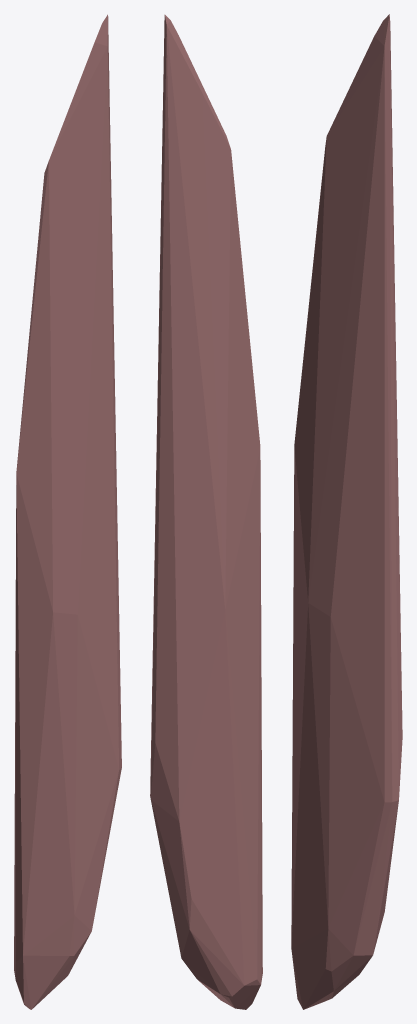
File: kitchenware_knife_z01.glb
The picture shows the model from 3 angles, left to right: view 1: azimuth 30°, elevation 25°; view 2: azimuth 210°, elevation 25°; view 3: azimuth 330°, elevation 25°; orthographic projection. The views are drawn at different scales.
Parts seen in each view (by area): view 1: geometry_0; view 2: geometry_0; view 3: geometry_0.
Part boxes in pixels (x1=…): geometry_0: x1=14, y1=14, x2=121, y2=1009; geometry_0: x1=150, y1=14, x2=262, y2=1009; geometry_0: x1=291, y1=14, x2=402, y2=1009.
Bounding box in the file's own units: 0.053 × 0.4799 × 0.0236.
